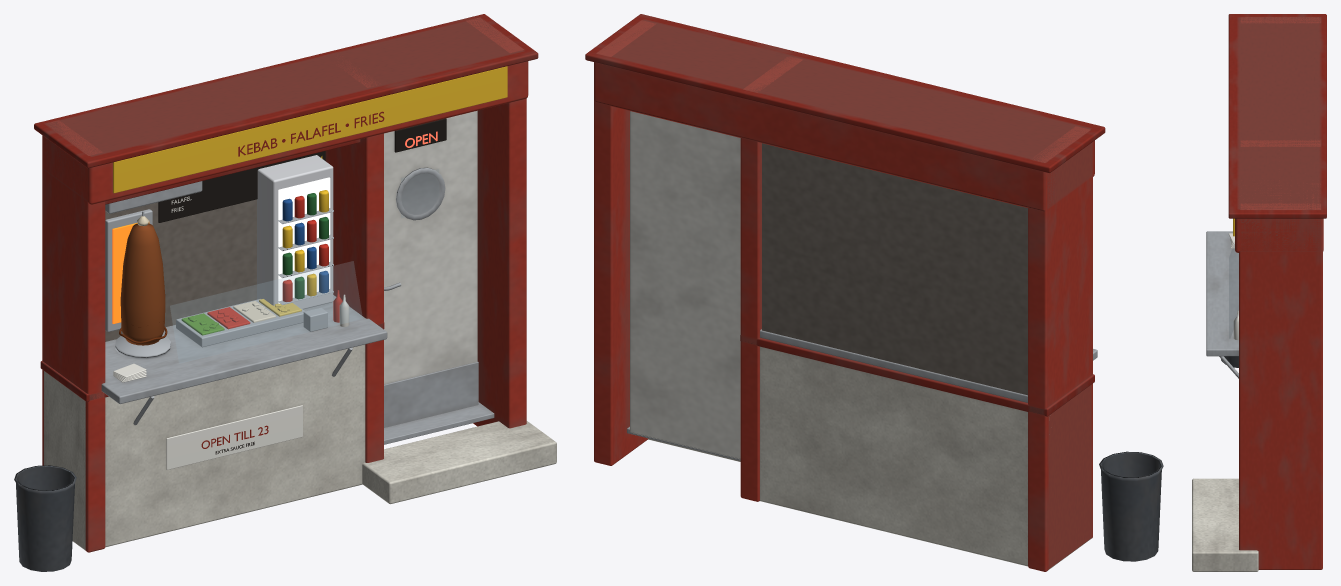
File: kebab_witryna.glb
3 views of the same model, side by side, from view 1: azimuth 30°, elevation 25°; view 2: azimuth 150°, elevation 25°; view 3: azimuth 270°, elevation 25° (orthographic). The views are drawn at different scales.
Visible parts, largest first — view 1: Witryna, Towar, Szyby, Napisy, SwiatloWitryna, OpenRamka; view 2: Witryna; view 3: Witryna, Szyby, Towar.
Part boxes in pixels (left/top/right/bottom): Witryna: left=14, top=14, right=556, bottom=571; Towar: left=105, top=66, right=507, bottom=469; Szyby: left=170, top=169, right=438, bottom=363; Napisy: left=171, top=111, right=384, bottom=454; SwiatloWitryna: left=112, top=221, right=149, bottom=323; OpenRamka: left=394, top=118, right=446, bottom=152; Witryna: left=585, top=14, right=1163, bottom=571; Witryna: left=1192, top=14, right=1326, bottom=571; Szyby: left=1229, top=243, right=1238, bottom=338; Towar: left=1228, top=218, right=1238, bottom=339.
Bounding box in the file's own units: 3.38 × 2.5 × 0.85.
Materials: 25 (1 with a texture image).
